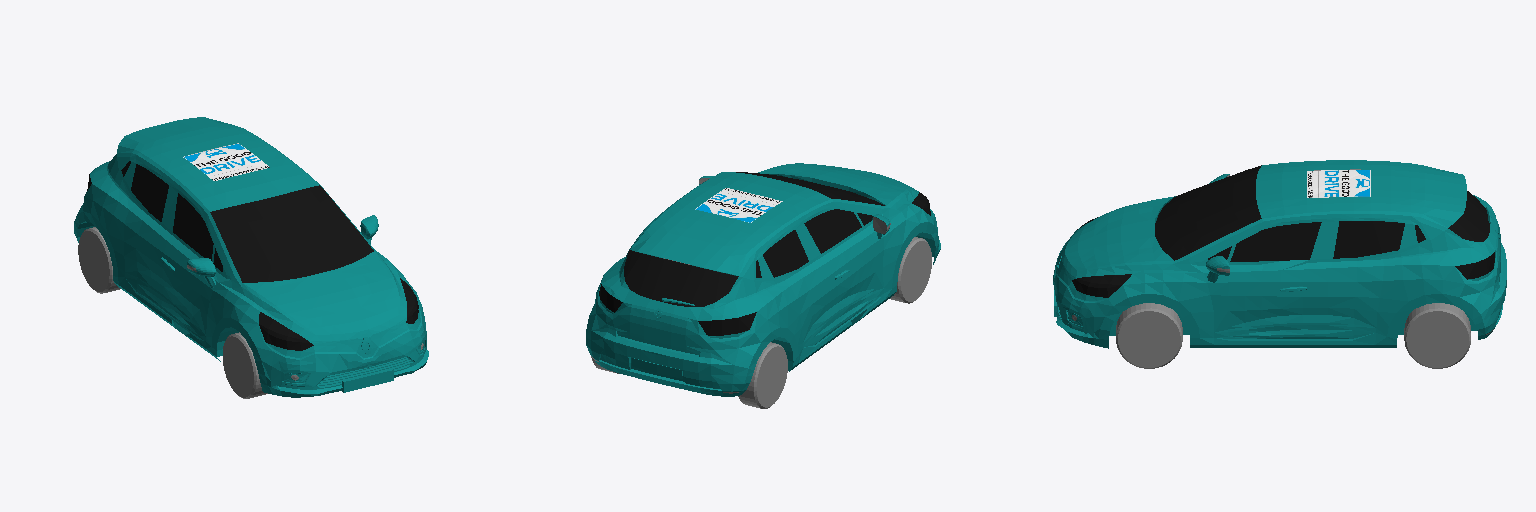
3 renders of one model, left to right at view 1: azimuth 30°, elevation 25°; view 2: azimuth 150°, elevation 25°; view 3: azimuth 270°, elevation 25°, orthographic.
Parts seen in each view (by area): view 1: Renault_Clio.001, Wheel2_Renault_Clio.002, Renault_Clio.002_Renault_Clio.006, Wheel4_Renault_Clio.003, RLight_Renault_Clio.002; view 2: Renault_Clio.001, Wheel4_Renault_Clio.003, Wheel2_Renault_Clio.002, Renault_Clio.002_Renault_Clio.006; view 3: Renault_Clio.001, Wheel3_Renault_Clio.004, Wheel1_Renault_Clio.005, Renault_Clio.002_Renault_Clio.006, LLight_Renault_Clio.003.
Boxes of the visible parts, box(x1,y1,x2,y2) form: Renault_Clio.001: box(74, 117, 428, 397); Wheel2_Renault_Clio.002: box(223, 332, 267, 398); Renault_Clio.002_Renault_Clio.006: box(183, 143, 269, 180); Wheel4_Renault_Clio.003: box(78, 227, 120, 293); RLight_Renault_Clio.002: box(259, 312, 313, 350); Renault_Clio.001: box(586, 163, 940, 396); Wheel4_Renault_Clio.003: box(738, 342, 787, 408); Wheel2_Renault_Clio.002: box(890, 237, 931, 303); Renault_Clio.002_Renault_Clio.006: box(695, 188, 782, 222); Renault_Clio.001: box(1053, 160, 1506, 348); Wheel3_Renault_Clio.004: box(1404, 303, 1470, 368); Wheel1_Renault_Clio.005: box(1116, 303, 1182, 368); Renault_Clio.002_Renault_Clio.006: box(1307, 169, 1370, 197); LLight_Renault_Clio.003: box(1072, 274, 1131, 297).
Size of the model in its own units: 3.89 by 2.89 by 8.12.
Materials: 7 (1 with a texture image).